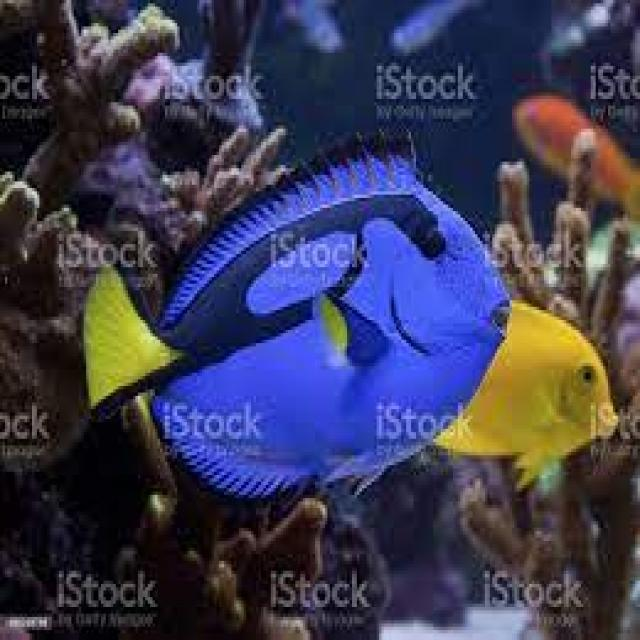BlueTang: (64, 172, 503, 482)
YellowTang: (498, 301, 620, 475)
